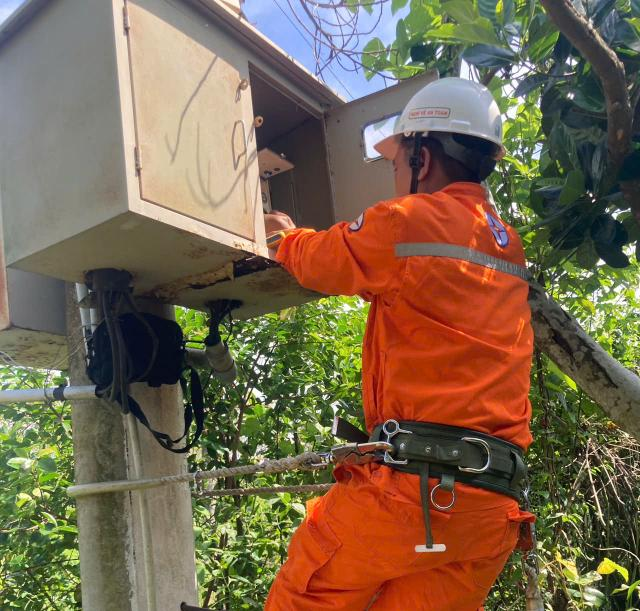gloves: (255, 200, 311, 255)
harness: (329, 396, 554, 507)
helmet: (358, 71, 520, 167)
